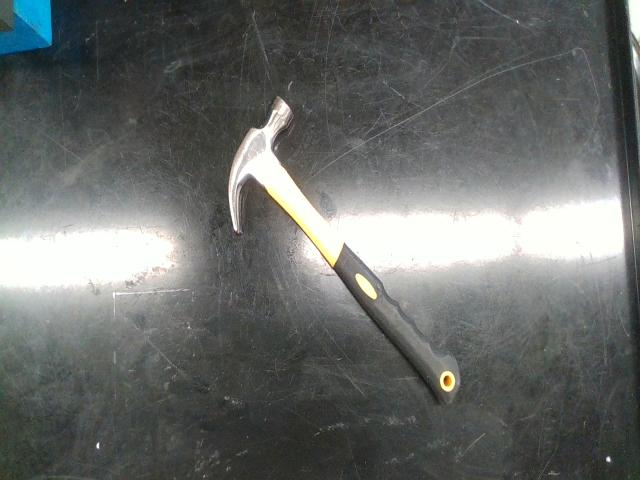Hammer: (229, 97, 460, 404)
